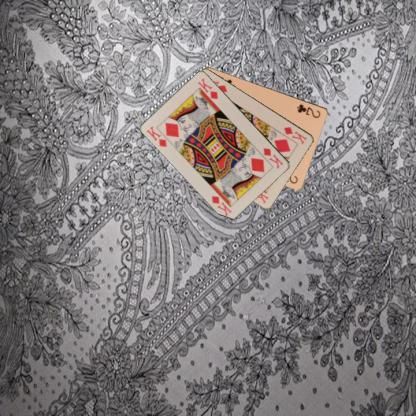2c: (294, 101, 322, 119)
Kd: (281, 124, 308, 146), (144, 124, 168, 148), (261, 145, 284, 170)
